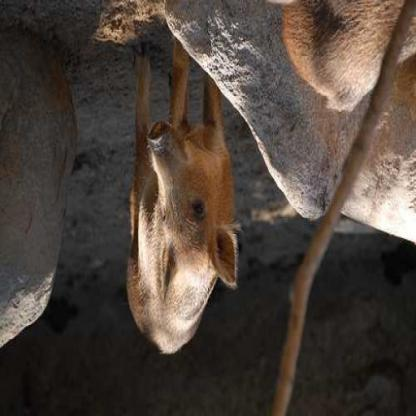boar: (93, 65, 251, 352)
